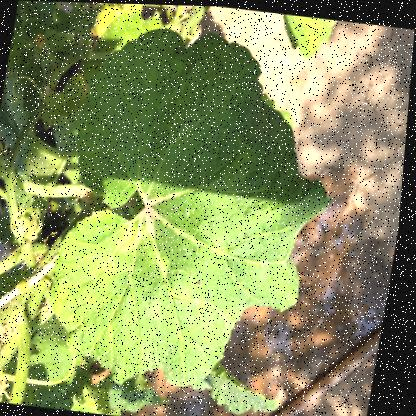Normal: (35, 11, 359, 406)
